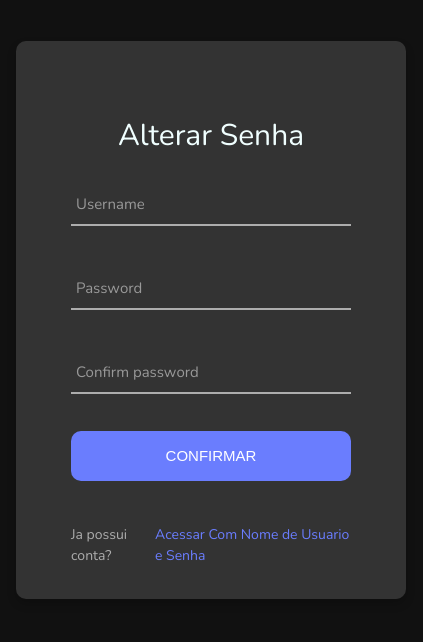
it: Componente Alterar › Simulacão de alterar senha com backend simulado e resposta codigo 200 › Resposta com codigo 200 imprime mensagem de sucesso
In the field with test id "usernameInput": (211, 202) x1=71 y1=179 x2=351 y2=224, type "victor"
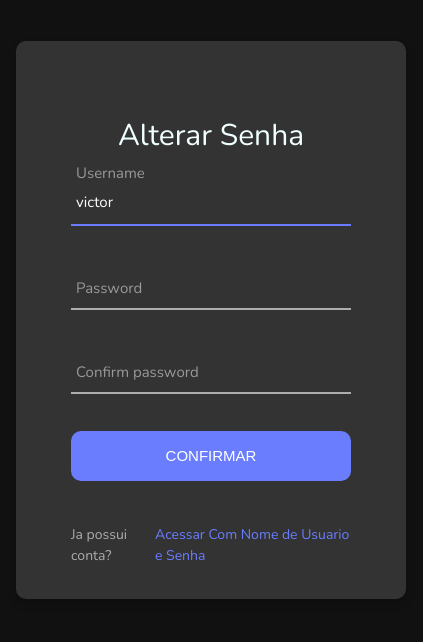
In the password field with test id "passwordInput": (211, 286) x1=71 y1=263 x2=351 y2=308, type "12345"
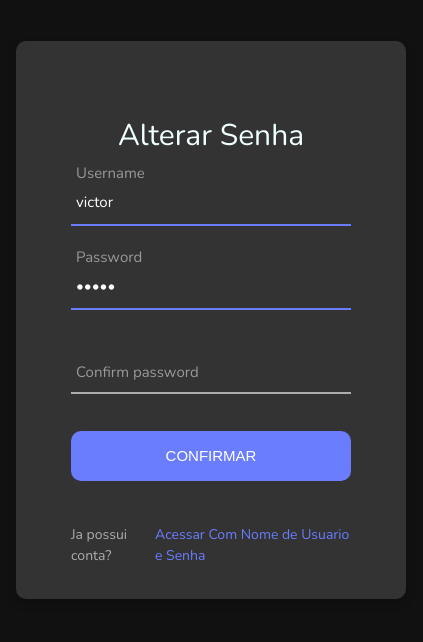
In the password field with test id "confirmpasswordInput": (211, 370) x1=71 y1=347 x2=351 y2=392, type "12345"
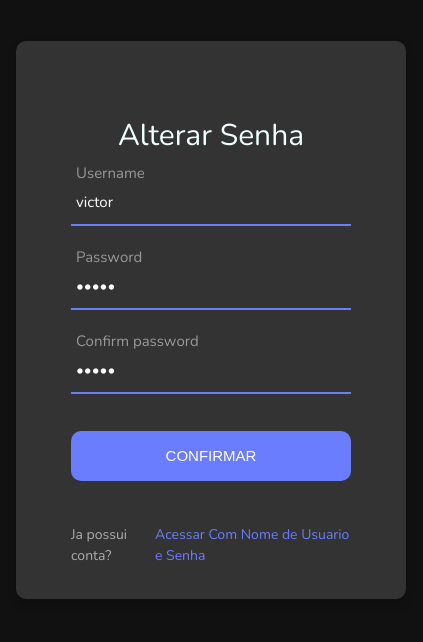
Click the button: click(211, 456) x1=71 y1=431 x2=351 y2=481
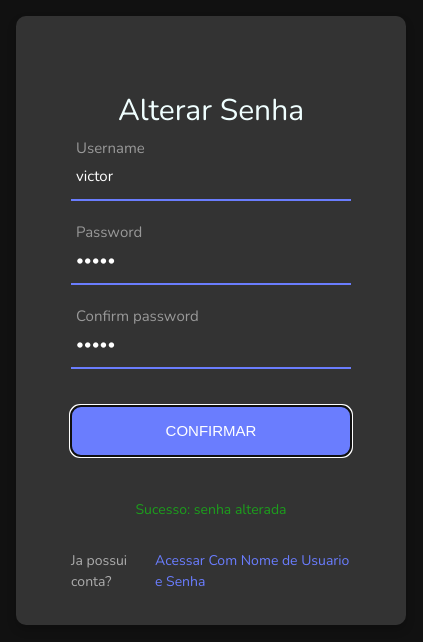
Check: the text "senha alterada" is shown, box x1=194 y1=500 x2=287 y2=518
